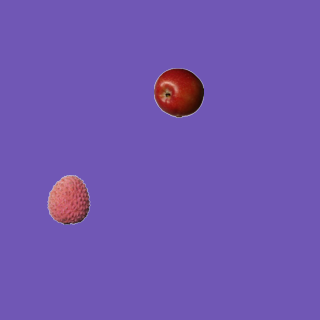Apple Braeburn: (153, 67, 203, 117)
Lychee: (43, 174, 93, 224)
